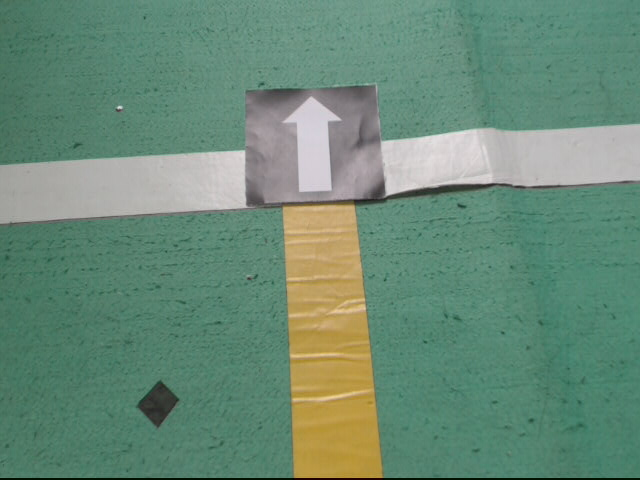straight: (244, 89, 389, 203)
